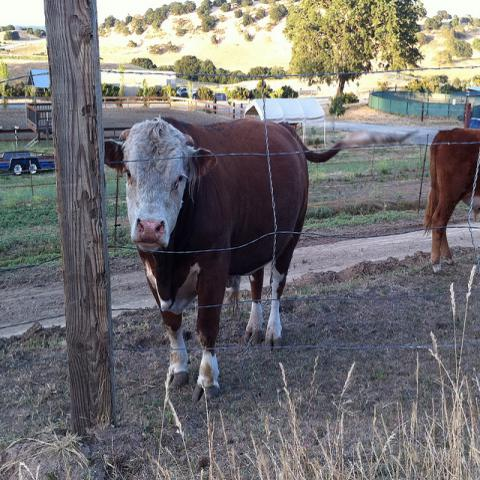truck: (176, 87, 190, 98)
